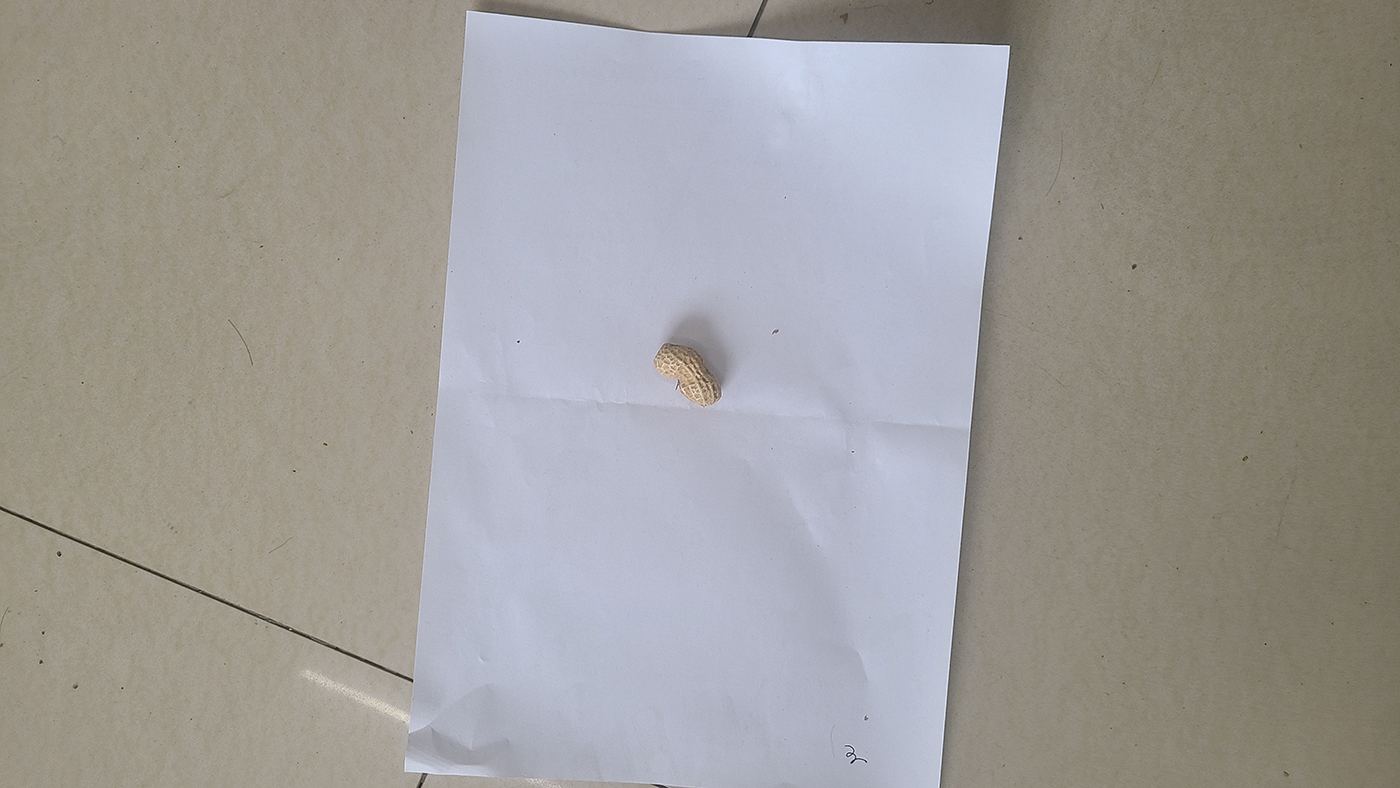h: (652, 341, 722, 407)
